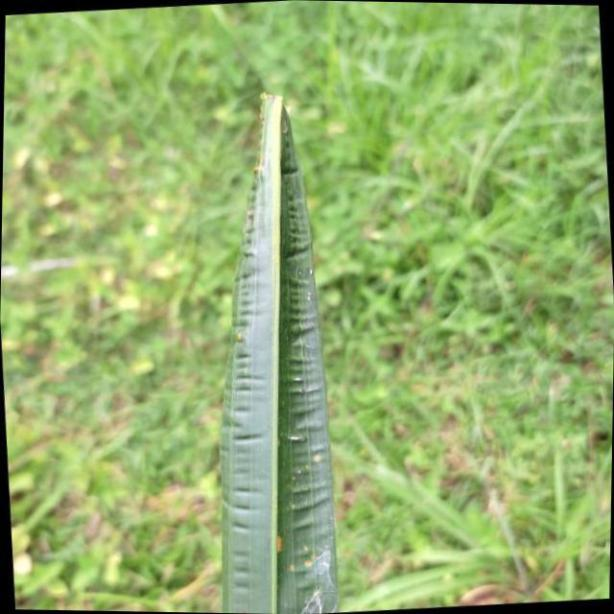Boron: (216, 91, 344, 614)
